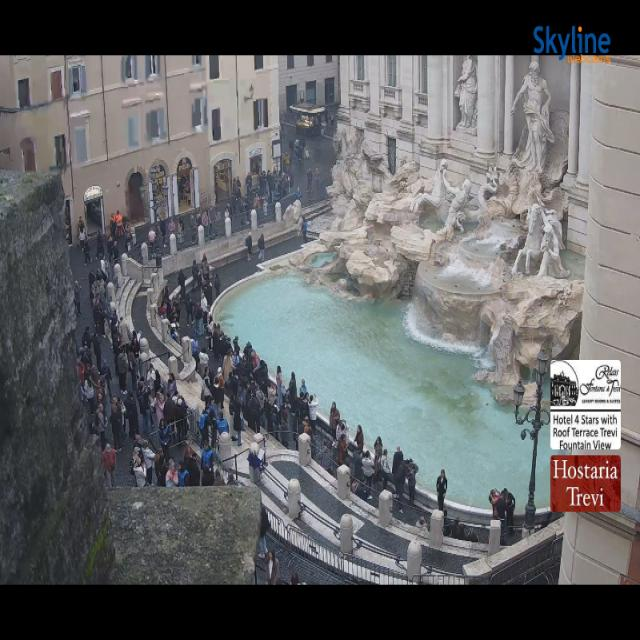person: (225, 337, 275, 412), (90, 270, 121, 357), (93, 300, 120, 370), (224, 383, 249, 445), (160, 378, 187, 435), (89, 270, 112, 334), (94, 300, 119, 358), (209, 179, 239, 225), (206, 305, 229, 363), (241, 349, 269, 396), (230, 349, 250, 412), (237, 343, 258, 401), (209, 310, 231, 363), (204, 385, 221, 449), (281, 379, 307, 419), (207, 368, 224, 429), (232, 337, 255, 382), (96, 230, 114, 285), (166, 396, 187, 442), (164, 395, 188, 435), (215, 324, 237, 367), (199, 396, 217, 448), (137, 437, 155, 485), (243, 173, 264, 214), (192, 290, 208, 343), (130, 436, 147, 485), (490, 491, 506, 543), (445, 517, 477, 542), (137, 380, 151, 437), (200, 405, 218, 449), (111, 215, 127, 264), (208, 368, 223, 419), (225, 357, 239, 411), (90, 286, 105, 336), (203, 405, 220, 449), (197, 206, 219, 239), (124, 391, 139, 439), (206, 313, 221, 361), (87, 365, 104, 407), (160, 293, 179, 330), (129, 331, 141, 389), (277, 155, 293, 198), (92, 299, 110, 337), (159, 295, 179, 329), (90, 272, 101, 331), (110, 397, 122, 451), (74, 335, 92, 371), (97, 231, 112, 274), (177, 212, 197, 244), (230, 398, 243, 447), (395, 459, 407, 512), (282, 403, 297, 445), (224, 183, 242, 218), (154, 371, 165, 428), (232, 337, 247, 377), (502, 489, 515, 535), (132, 448, 146, 488), (102, 444, 115, 487), (444, 516, 465, 541), (95, 403, 106, 450), (199, 406, 211, 449), (224, 189, 241, 219), (248, 395, 261, 434), (213, 368, 224, 414), (116, 346, 127, 392), (96, 262, 108, 304), (158, 418, 170, 460), (78, 348, 92, 384), (116, 395, 126, 445), (231, 193, 247, 224), (362, 451, 375, 489), (381, 450, 393, 490), (208, 206, 223, 238), (99, 362, 112, 398), (170, 395, 188, 421), (189, 209, 203, 242), (436, 470, 447, 511), (408, 459, 418, 504), (266, 550, 279, 584), (158, 300, 174, 327), (84, 376, 95, 415), (155, 452, 167, 487), (158, 302, 174, 328), (159, 302, 175, 328), (268, 404, 280, 438), (201, 368, 211, 408), (374, 436, 383, 480), (201, 440, 214, 470), (284, 140, 295, 175), (320, 440, 332, 472), (81, 228, 91, 265), (199, 271, 212, 299), (336, 420, 351, 444), (308, 396, 318, 432), (452, 517, 467, 541), (119, 317, 130, 349), (392, 445, 403, 477), (276, 365, 284, 409), (166, 460, 179, 487), (352, 480, 370, 499), (535, 512, 553, 531), (352, 450, 363, 481), (223, 351, 235, 379), (184, 292, 194, 325), (92, 333, 101, 369), (274, 163, 284, 195), (81, 326, 92, 355), (288, 372, 297, 407), (444, 517, 459, 538), (171, 293, 180, 328), (298, 392, 308, 422), (250, 350, 261, 377), (88, 271, 97, 304), (230, 177, 241, 204), (100, 258, 110, 287), (77, 217, 86, 249), (489, 490, 499, 518), (330, 402, 339, 432), (232, 337, 241, 367), (241, 196, 251, 223), (338, 435, 347, 465), (134, 435, 144, 462), (78, 357, 86, 390), (195, 302, 203, 335), (267, 171, 275, 203), (178, 462, 188, 487), (167, 372, 177, 397), (416, 517, 429, 536), (74, 280, 81, 315), (452, 517, 463, 539), (292, 139, 302, 163), (355, 425, 363, 455), (290, 138, 302, 158), (191, 259, 199, 288), (202, 209, 210, 238), (178, 269, 186, 298), (65, 212, 72, 245), (279, 173, 288, 198), (190, 211, 197, 243), (456, 519, 466, 541), (116, 210, 124, 237), (259, 171, 267, 198), (96, 229, 103, 259), (112, 242, 119, 272), (200, 291, 208, 317), (444, 510, 452, 536), (162, 285, 171, 308), (202, 468, 214, 485), (540, 512, 552, 529), (160, 218, 167, 247), (416, 516, 427, 534), (245, 233, 252, 261), (316, 168, 323, 196), (178, 217, 185, 245), (148, 226, 155, 254), (108, 233, 114, 265), (465, 529, 478, 542), (168, 217, 175, 241), (284, 171, 291, 195), (290, 572, 304, 584), (268, 383, 275, 407), (258, 235, 264, 262), (245, 172, 252, 195), (201, 253, 208, 275), (214, 273, 220, 298), (214, 470, 224, 485), (307, 168, 312, 197), (110, 213, 116, 237), (303, 420, 311, 437), (302, 217, 307, 243), (324, 110, 330, 130), (198, 269, 203, 292), (235, 177, 241, 196), (300, 379, 307, 395), (344, 437, 348, 464), (253, 193, 259, 210), (196, 210, 202, 227), (296, 186, 302, 203), (301, 138, 306, 158), (280, 125, 284, 145), (329, 110, 333, 127)
